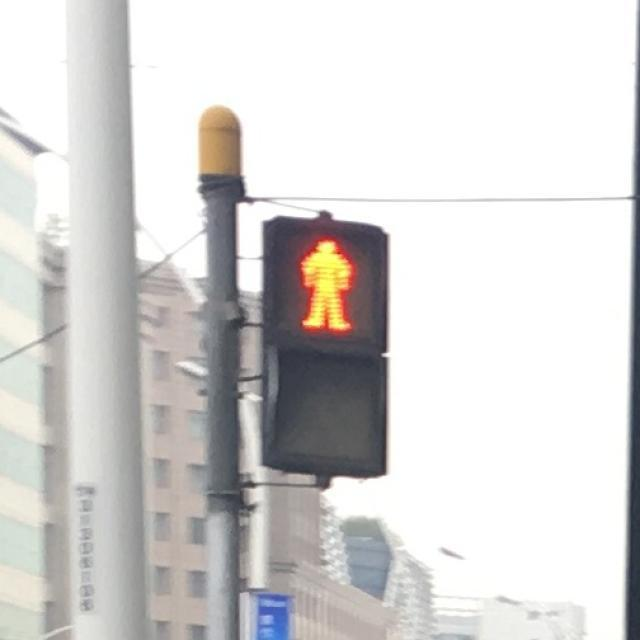red-crossing: (286, 230, 368, 338)
